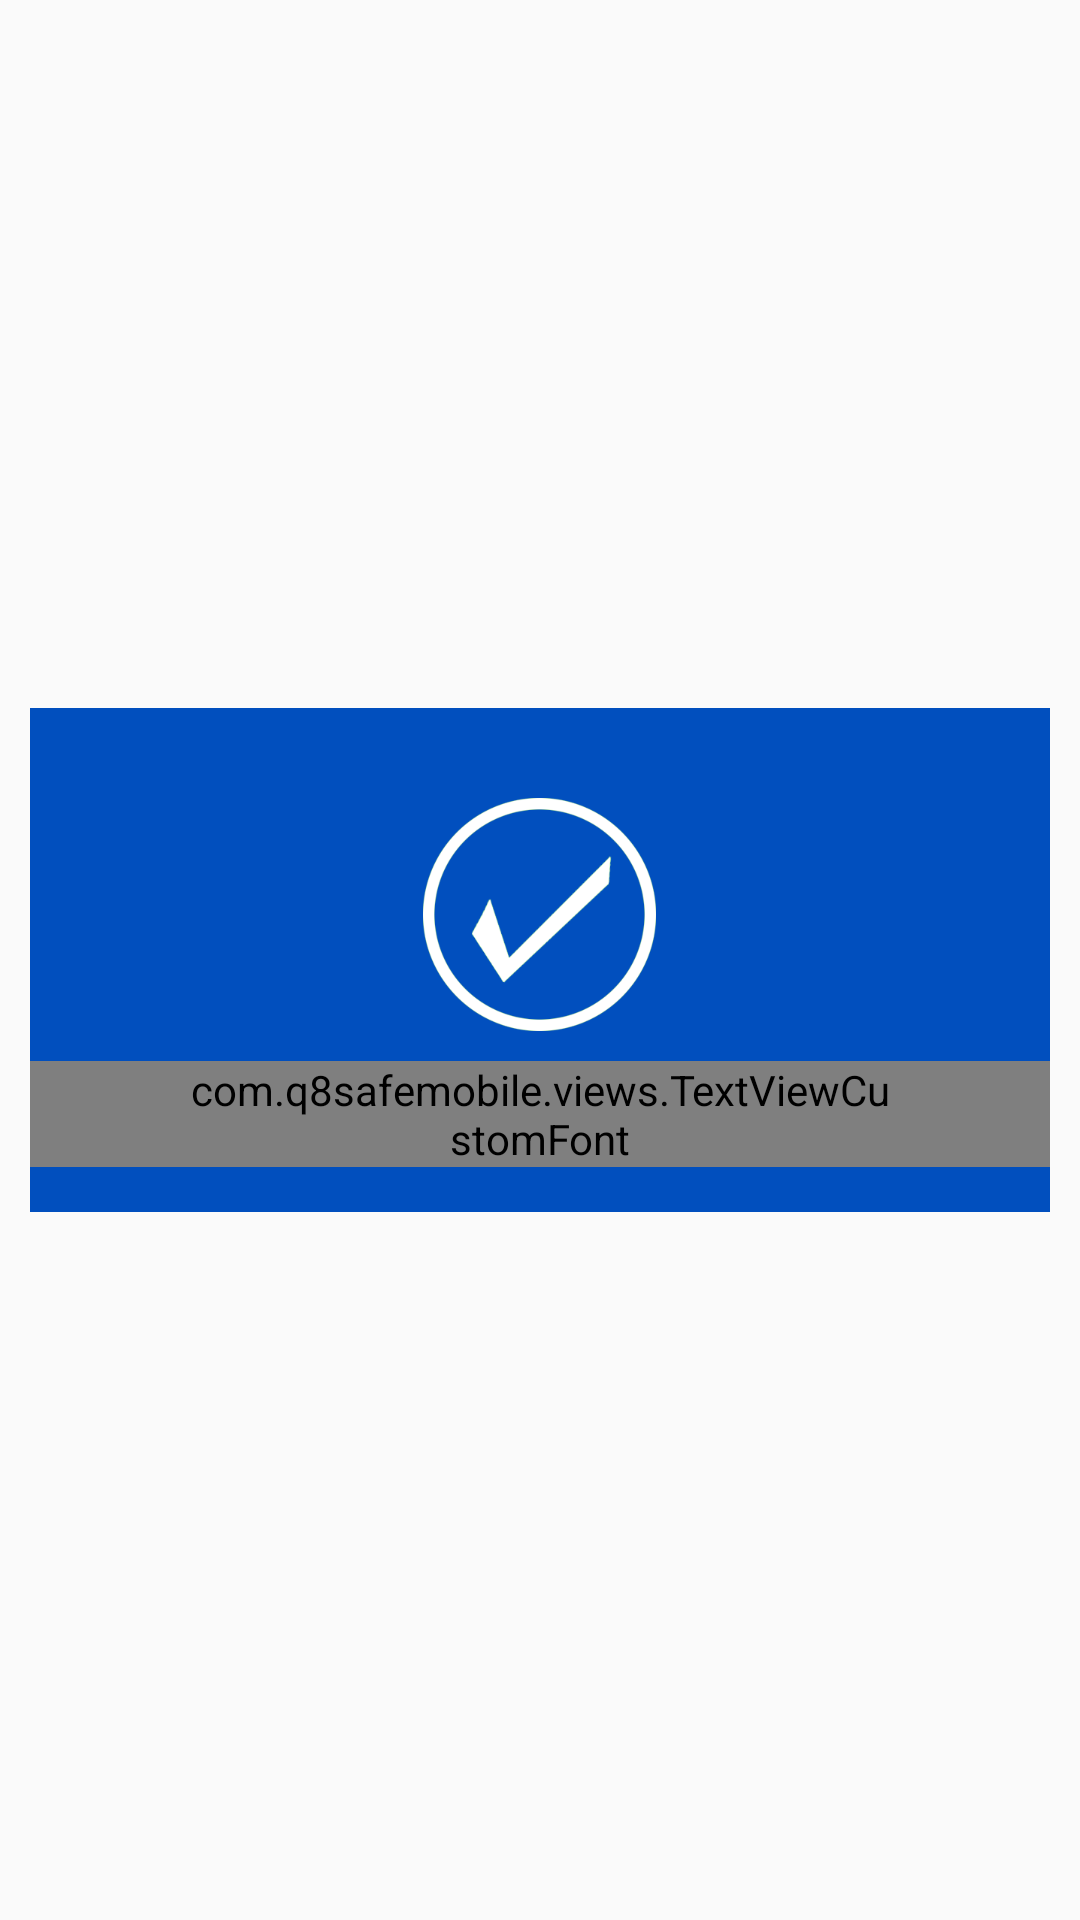

Icons on this 1080*1920 Android screen, each with the point to tap as [x,y]:
tick: [539,914]
